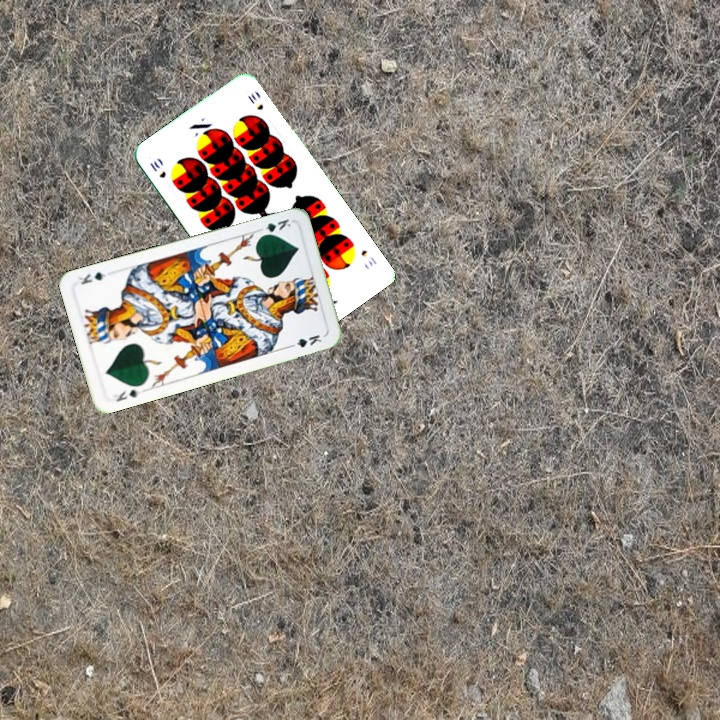GK: (254, 215, 293, 239), (110, 385, 147, 404)
S10: (146, 156, 168, 181), (357, 246, 379, 269)
